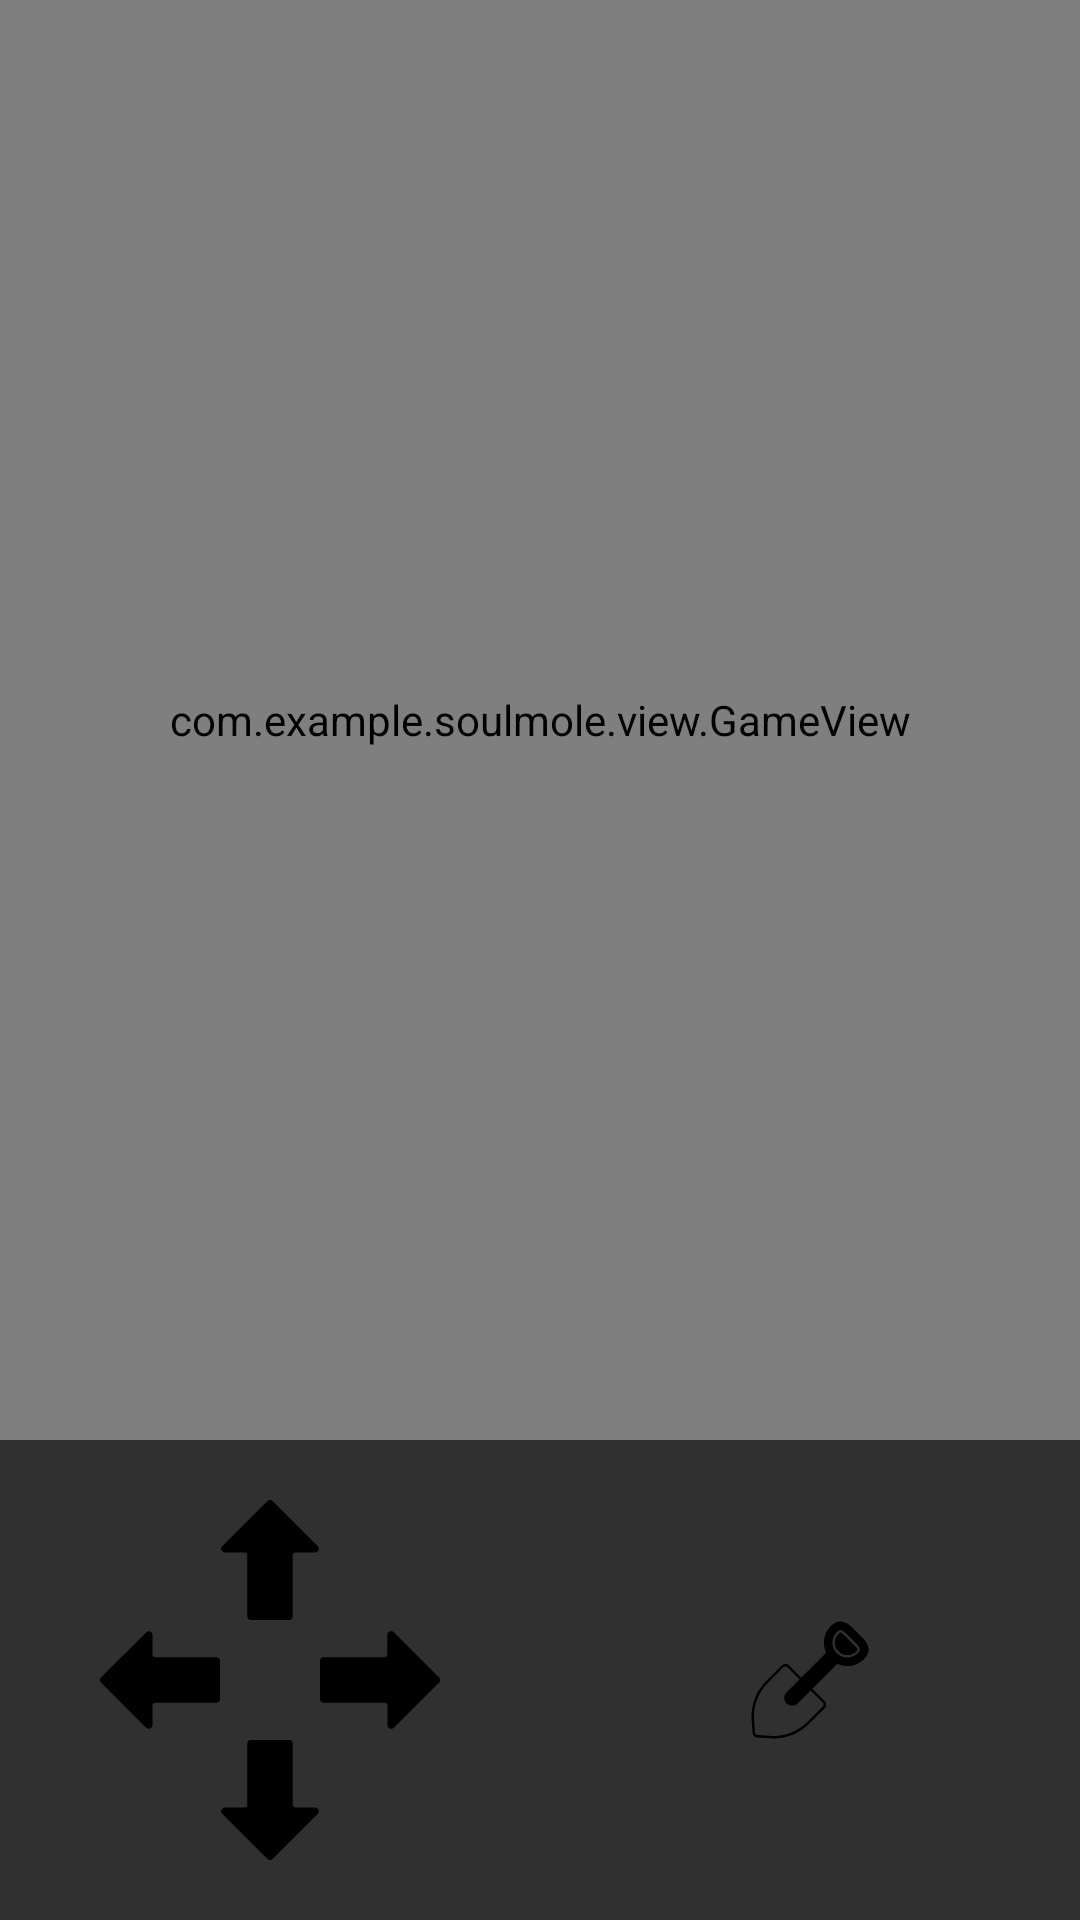

Named icons in this screenshot (1080px x 1920px) and their bounding boxes, (x1, y1, x2, y2):
dig: (752, 1622, 868, 1738)
down arrow: (221, 1740, 319, 1860)
left arrow: (100, 1631, 220, 1729)
right arrow: (320, 1631, 440, 1729)
up arrow: (221, 1500, 319, 1620)
